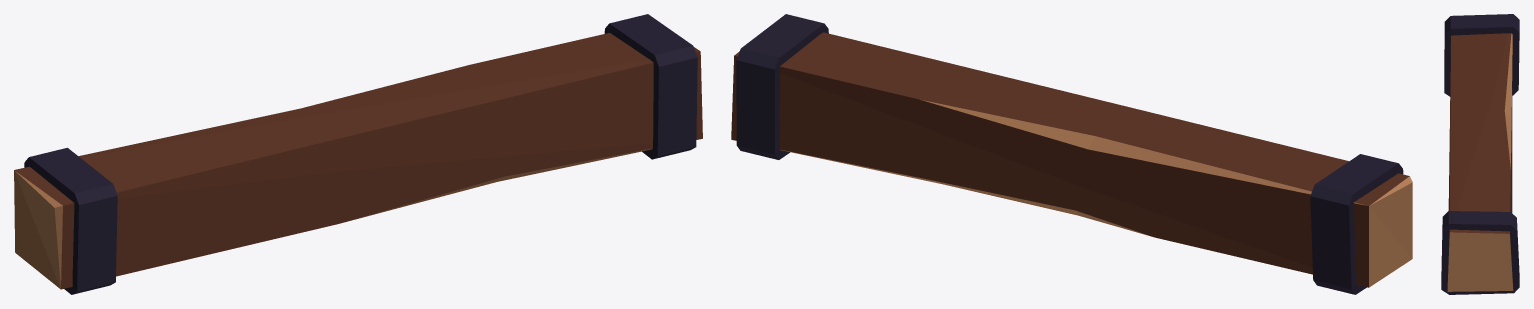
File: MCastle_InteriorSupports_07.FBX
3 renders of one model, left to right at view 1: azimuth 30°, elevation 25°; view 2: azimuth 150°, elevation 25°; view 3: azimuth 270°, elevation 25°, orthographic. The views are drawn at different scales.
Parts seen in each view (by area): view 1: MCastle_InteriorSupports_07_LOD0; view 2: MCastle_InteriorSupports_07_LOD0; view 3: MCastle_InteriorSupports_07_LOD0.
Boxes of the visible parts, x1=… form: MCastle_InteriorSupports_07_LOD0: x1=14, y1=14, x2=702, y2=294; MCastle_InteriorSupports_07_LOD0: x1=731, y1=14, x2=1412, y2=294; MCastle_InteriorSupports_07_LOD0: x1=1441, y1=14, x2=1519, y2=294.
Size of what is drawn, in the model's own units: 122 by 19.82 by 18.78.
